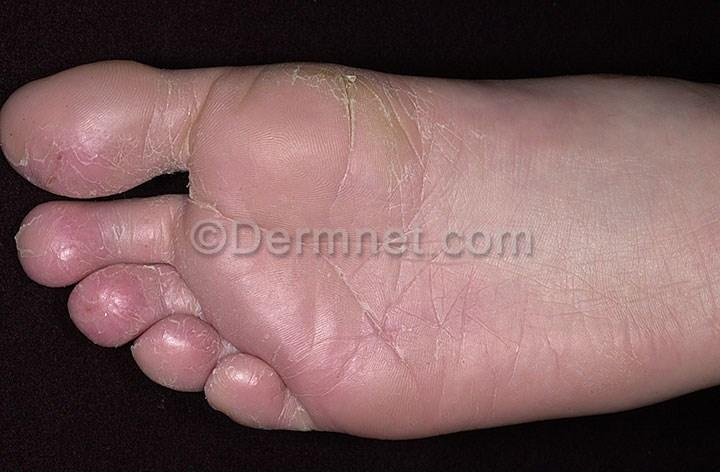Eczema: (464, 338, 566, 418), (234, 104, 345, 175), (246, 237, 360, 292), (196, 177, 308, 231), (245, 307, 329, 377), (392, 362, 504, 414), (338, 295, 431, 353), (204, 240, 266, 308), (461, 265, 516, 340), (568, 347, 639, 404), (283, 60, 365, 109), (313, 330, 381, 388), (314, 173, 388, 225), (372, 139, 444, 191), (115, 203, 184, 257), (37, 211, 111, 261), (147, 67, 198, 138), (411, 109, 489, 155), (382, 191, 434, 255), (358, 74, 424, 124), (193, 108, 233, 189), (394, 265, 461, 313), (211, 327, 259, 394), (94, 267, 152, 319), (266, 370, 318, 428), (13, 149, 91, 186), (167, 312, 215, 371), (329, 392, 412, 426), (22, 227, 85, 271), (219, 76, 291, 109), (146, 265, 196, 312), (655, 352, 703, 396), (29, 131, 116, 153), (83, 147, 137, 182), (150, 362, 213, 390), (214, 384, 266, 413), (65, 181, 131, 199), (140, 138, 186, 163), (139, 162, 200, 180), (139, 337, 166, 362)
